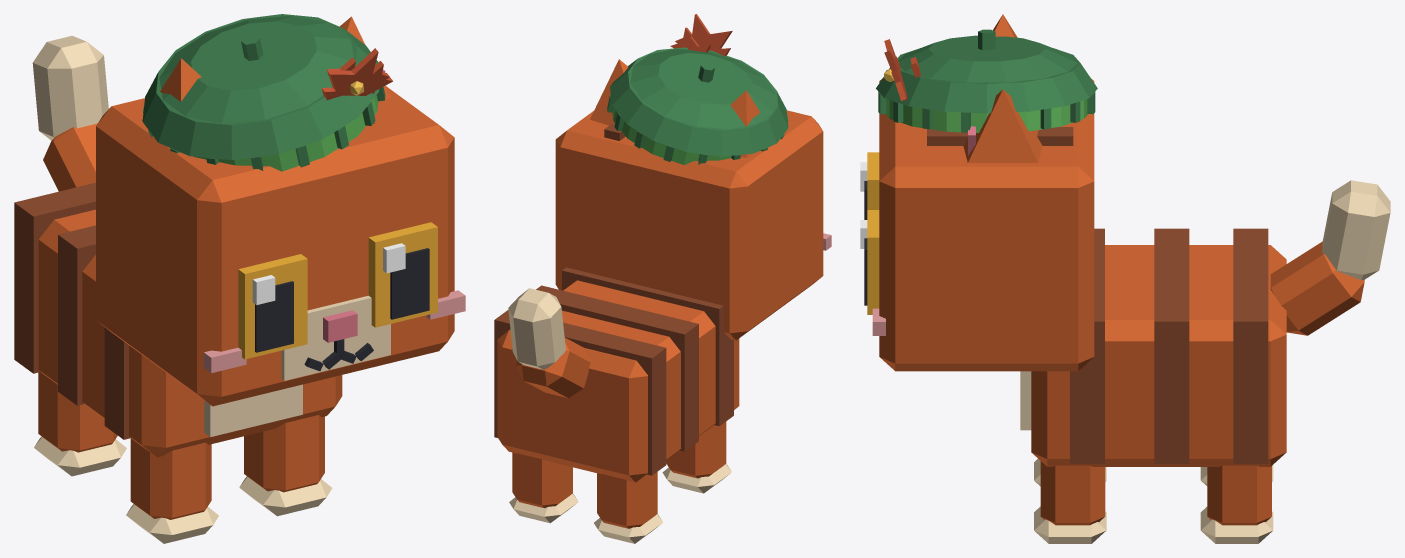
File: CatCafe_Cat_MapleMuffin.glb
3 views of the same model, side by side, from view 1: azimuth 30°, elevation 25°; view 2: azimuth 150°, elevation 25°; view 3: azimuth 270°, elevation 25° (orthographic). The views are drawn at different scales.
Parts seen in each view (by area): view 1: CatCafe_Cat_MapleMuffin_Head, CatCafe_Cat_MapleMuffin_Body, CatCafe_Cat_MapleMuffin_Prop, CatCafe_Cat_MapleMuffin_Tail, CatCafe_Cat_MapleMuffin_LegF2, CatCafe_Cat_MapleMuffin_LegF1, CatCafe_Cat_MapleMuffin_Eye2, CatCafe_Cat_MapleMuffin_Eye1, CatCafe_Cat_MapleMuffin_LegB2, CatCafe_Cat_MapleMuffin_EarR; view 2: CatCafe_Cat_MapleMuffin_Head, CatCafe_Cat_MapleMuffin_Body, CatCafe_Cat_MapleMuffin_Prop, CatCafe_Cat_MapleMuffin_Tail, CatCafe_Cat_MapleMuffin_LegB2, CatCafe_Cat_MapleMuffin_LegB1, CatCafe_Cat_MapleMuffin_LegF2, CatCafe_Cat_MapleMuffin_EarL, CatCafe_Cat_MapleMuffin_EarR; view 3: CatCafe_Cat_MapleMuffin_Head, CatCafe_Cat_MapleMuffin_Body, CatCafe_Cat_MapleMuffin_Prop, CatCafe_Cat_MapleMuffin_Tail, CatCafe_Cat_MapleMuffin_LegF1, CatCafe_Cat_MapleMuffin_LegB1, CatCafe_Cat_MapleMuffin_EarL, CatCafe_Cat_MapleMuffin_Eye1, CatCafe_Cat_MapleMuffin_Eye2.
Boxes of the visible parts, left/top/right/bottom form: CatCafe_Cat_MapleMuffin_Head: left=96, top=86, right=465, bottom=406; CatCafe_Cat_MapleMuffin_Body: left=14, top=182, right=342, bottom=457; CatCafe_Cat_MapleMuffin_Prop: left=142, top=14, right=392, bottom=171; CatCafe_Cat_MapleMuffin_Tail: left=32, top=35, right=108, bottom=191; CatCafe_Cat_MapleMuffin_LegF2: left=126, top=438, right=218, bottom=543; CatCafe_Cat_MapleMuffin_LegF1: left=239, top=415, right=332, bottom=516; CatCafe_Cat_MapleMuffin_Eye2: left=238, top=254, right=307, bottom=359; CatCafe_Cat_MapleMuffin_Eye1: left=368, top=222, right=437, bottom=327; CatCafe_Cat_MapleMuffin_LegB2: left=34, top=372, right=126, bottom=476; CatCafe_Cat_MapleMuffin_EarR: left=142, top=58, right=201, bottom=120; CatCafe_Cat_MapleMuffin_Head: left=555, top=110, right=831, bottom=340; CatCafe_Cat_MapleMuffin_Body: left=494, top=267, right=739, bottom=482; CatCafe_Cat_MapleMuffin_Prop: left=607, top=14, right=788, bottom=164; CatCafe_Cat_MapleMuffin_Tail: left=508, top=288, right=590, bottom=398; CatCafe_Cat_MapleMuffin_LegB2: left=594, top=472, right=662, bottom=543; CatCafe_Cat_MapleMuffin_LegB1: left=509, top=452, right=578, bottom=523; CatCafe_Cat_MapleMuffin_LegF2: left=662, top=421, right=731, bottom=493; CatCafe_Cat_MapleMuffin_EarL: left=590, top=59, right=628, bottom=125; CatCafe_Cat_MapleMuffin_EarR: left=730, top=90, right=760, bottom=157; CatCafe_Cat_MapleMuffin_Head: left=872, top=78, right=1094, bottom=371; CatCafe_Cat_MapleMuffin_Body: left=1020, top=228, right=1286, bottom=466; CatCafe_Cat_MapleMuffin_Prop: left=876, top=29, right=1097, bottom=132; CatCafe_Cat_MapleMuffin_Tail: left=1270, top=180, right=1390, bottom=335; CatCafe_Cat_MapleMuffin_LegF1: left=1034, top=461, right=1106, bottom=543; CatCafe_Cat_MapleMuffin_LegB1: left=1200, top=465, right=1273, bottom=543; CatCafe_Cat_MapleMuffin_EarL: left=963, top=89, right=1042, bottom=162; CatCafe_Cat_MapleMuffin_Eye1: left=860, top=210, right=879, bottom=314; CatCafe_Cat_MapleMuffin_Eye2: left=860, top=152, right=879, bottom=219.
Size of the model in its own units: 1 by 1.97 by 1.97.
Materials: 1 (1 with a texture image).
